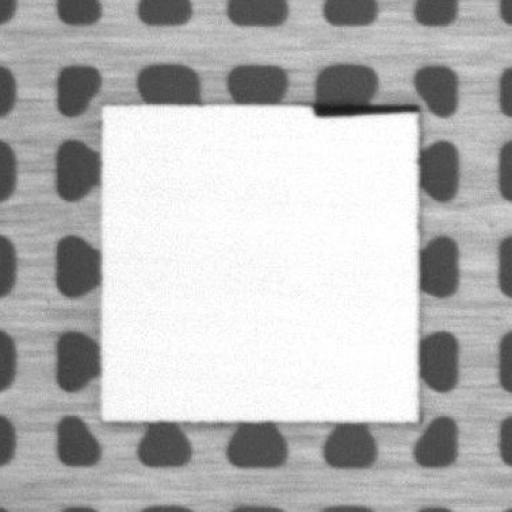DIE_BROKEN: (306, 97, 423, 118)
